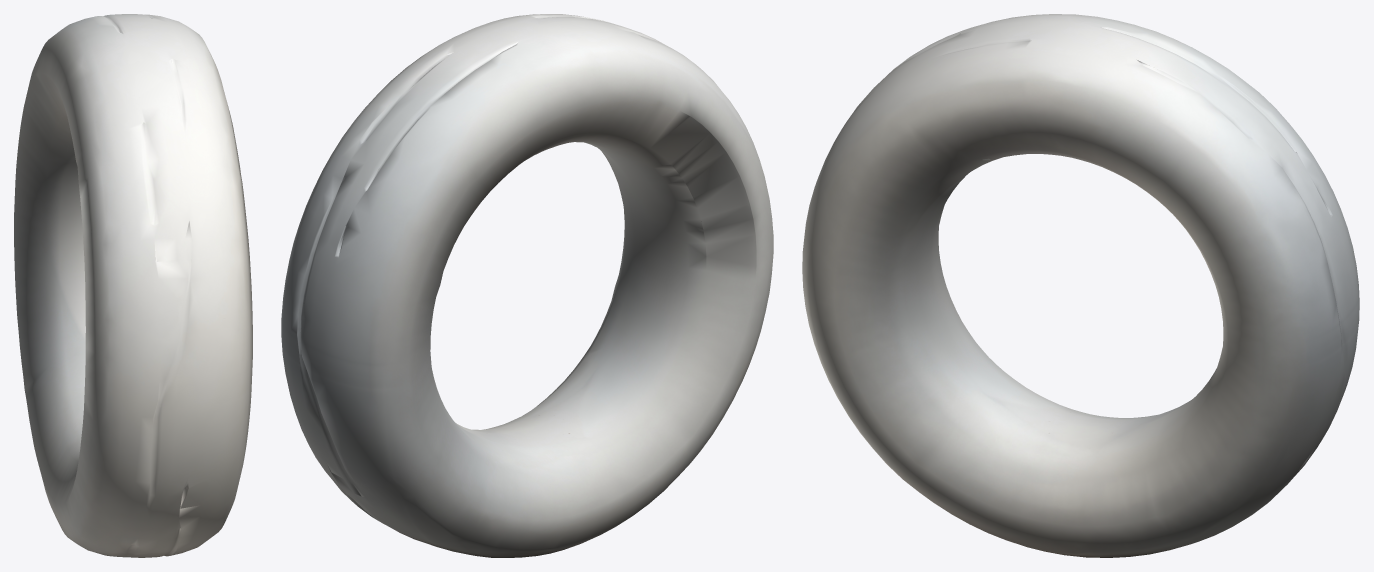
File: artifact-white-ring.glb
The picture shows the model from 3 angles, left to right: view 1: azimuth 30°, elevation 25°; view 2: azimuth 150°, elevation 25°; view 3: azimuth 270°, elevation 25°; orthographic projection. The views are drawn at different scales.
Visible parts, largest first — view 1: tripo_node_e9694f07-70e2-462e-8980-551f27e12f91; view 2: tripo_node_e9694f07-70e2-462e-8980-551f27e12f91; view 3: tripo_node_e9694f07-70e2-462e-8980-551f27e12f91.
Boxes of the visible parts, left/top/right/bottom form: tripo_node_e9694f07-70e2-462e-8980-551f27e12f91: left=14, top=14, right=252, bottom=557; tripo_node_e9694f07-70e2-462e-8980-551f27e12f91: left=281, top=14, right=773, bottom=557; tripo_node_e9694f07-70e2-462e-8980-551f27e12f91: left=802, top=14, right=1359, bottom=557.
Size of the model in its own units: 0.5845 by 0.9995 by 0.9771.
1 material, 1 textured.
